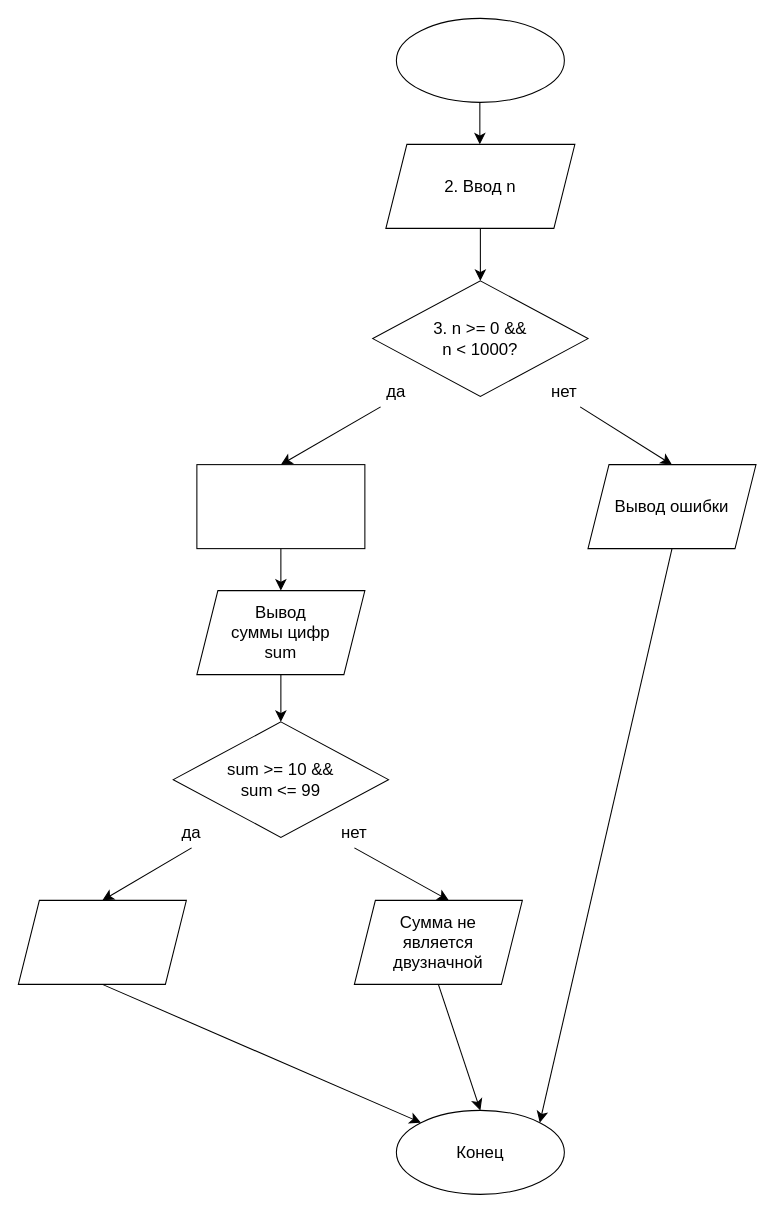
Image size: 775x1213. Some labels were removed from this diagram. The centre of each missing label's shape, as x and y in pixels:
"1.Начало" belongs at [479,59].
"sum = sum_digits(n)" belongs at [280,506].
"Сумма является двузначной" belongs at [101,941].
